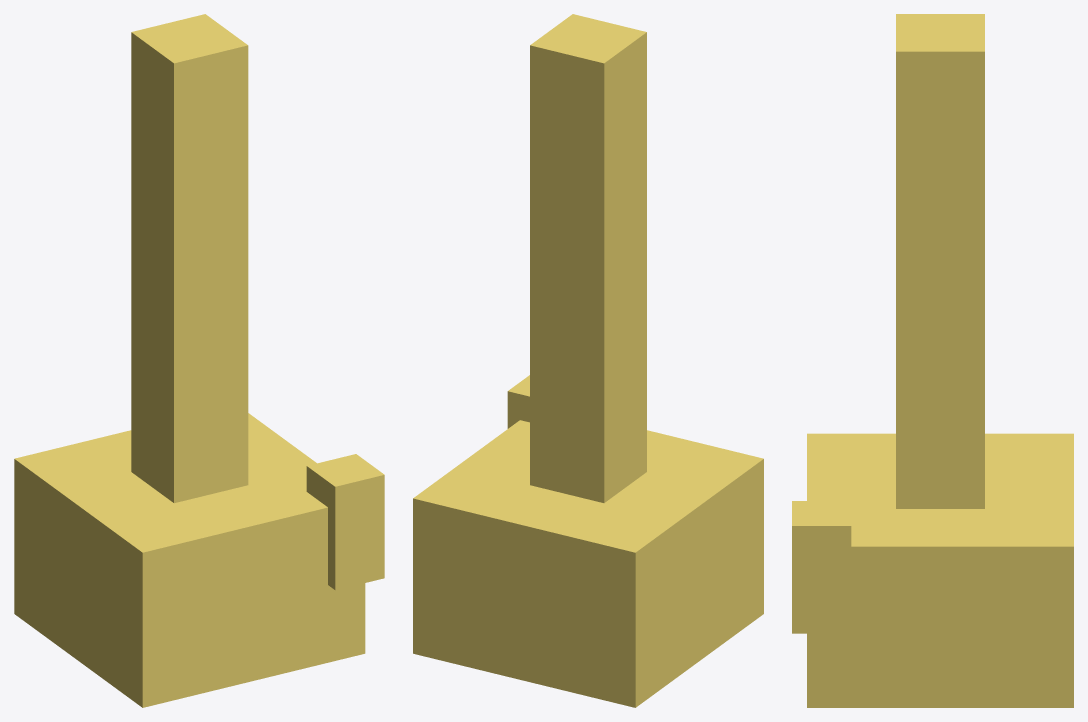
The model's file is power.gltf.
The picture shows the model from 3 angles, left to right: view 1: azimuth 30°, elevation 25°; view 2: azimuth 150°, elevation 25°; view 3: azimuth 270°, elevation 25°; orthographic projection. The views are drawn at different scales.
Bounding box in the file's own units: 19 × 46 × 19.
